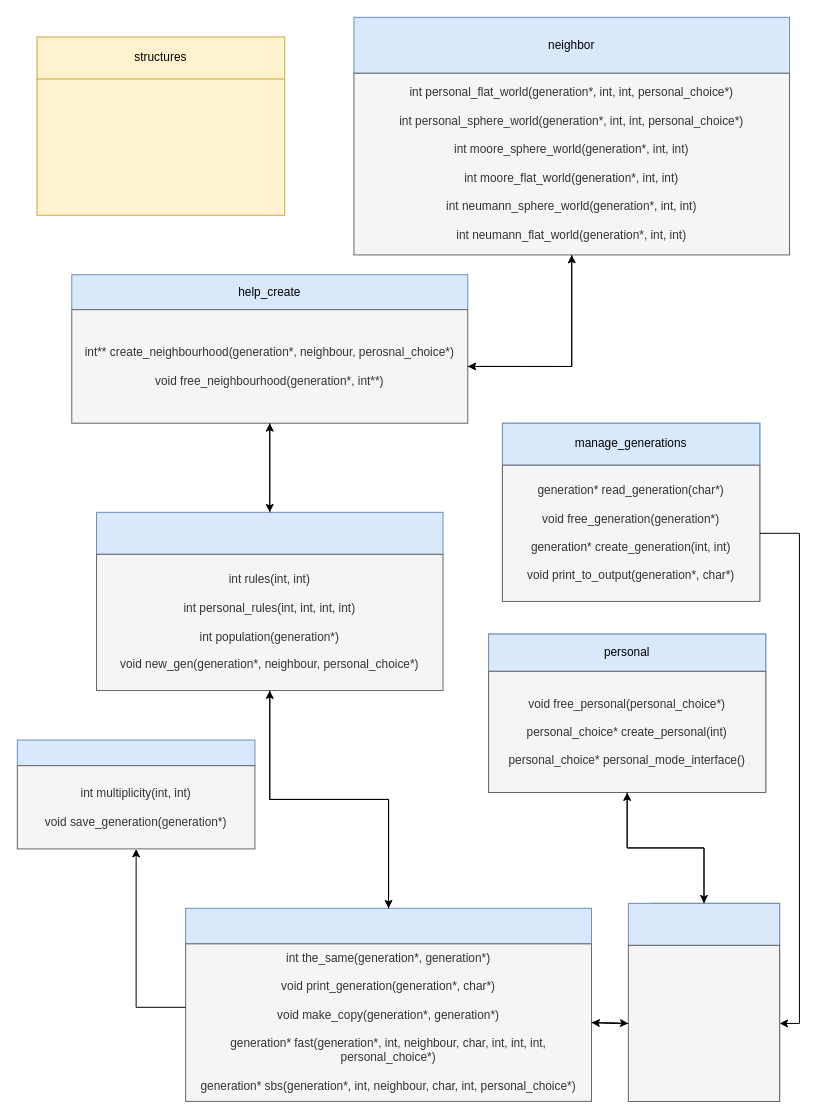
The diagram is 825 pixels wide and 1120 high, and some of its shapes have lost their labels. The centre of each missing label's shape, as x and y in pixels:
"create_new" belongs at point 269,532.
"main" belongs at point 703,923.
"managing parameters initialization of structures run core program" belongs at point 703,1022.
"modes" belongs at point 388,925.
"save_image" belongs at point 135,752.
"structure of generation structure of personal_choice enum neighbour" belongs at point 160,146.
